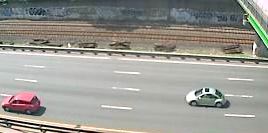car: (1, 91, 48, 115), (184, 85, 227, 109)
